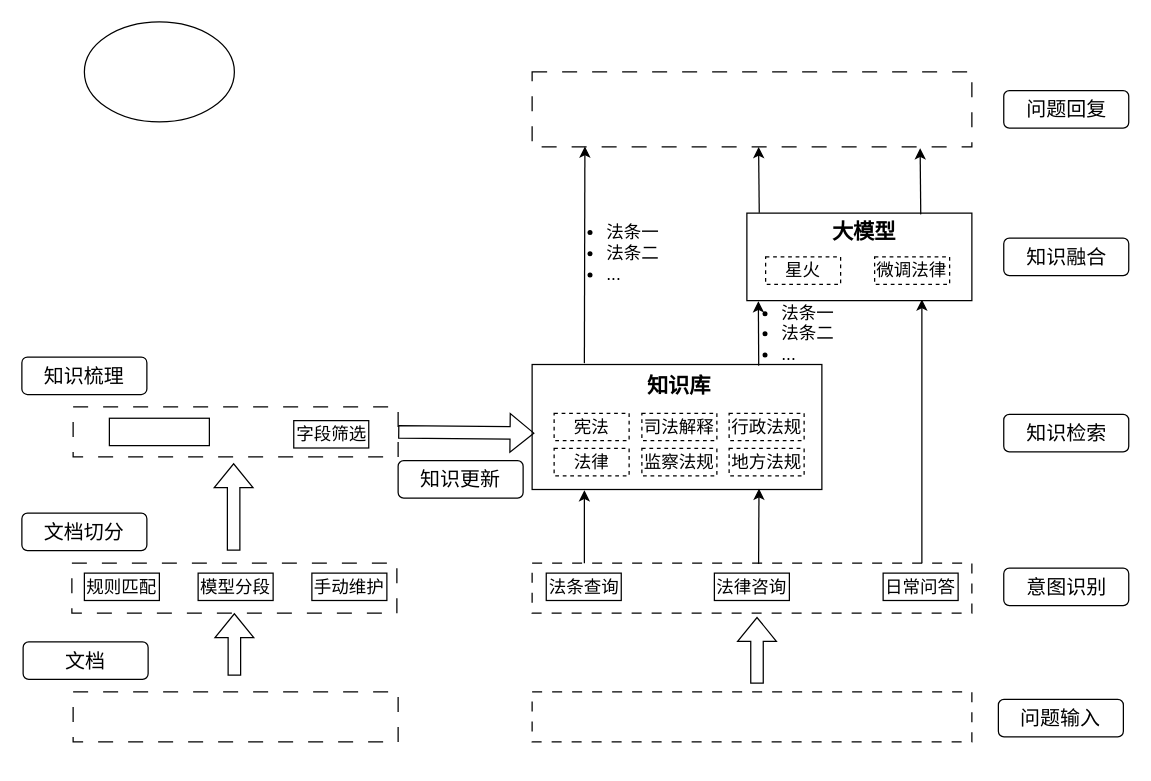
This 1151x781 diagram has some shape labels left out. Each missing label, with the centre of its shape:
"业务流程" belongs at point (158, 71).
"中华人民共和国宪法(1954) 中华人民共和国劳动法" belongs at point (235, 716).
"定金支付标准的法律规定？" belongs at point (751, 716).
"文本向量化" belongs at point (158, 431).
"根据《民法典》第五百八十六条：当事人可以约定一方向对方给付定金作为债权的担保。定金合同自实际交付定金时成立。" belongs at point (751, 109).
